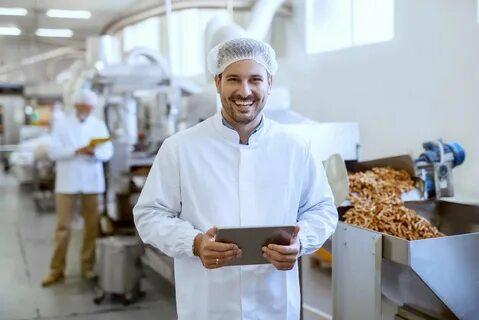hairnet: (203, 29, 297, 136)
